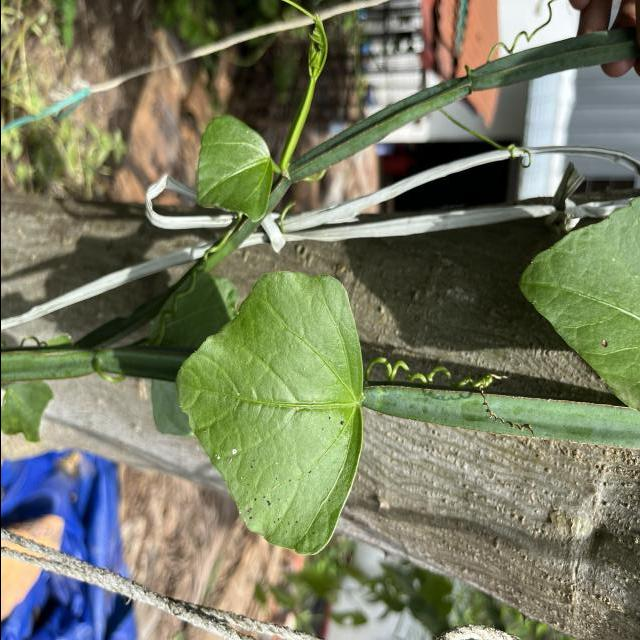Cissus quadrangularis: (172, 266, 366, 558)
